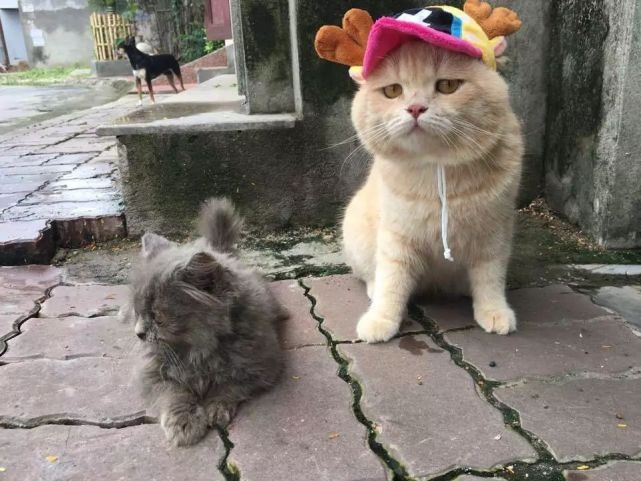cat: (340, 43, 526, 346), (119, 199, 291, 448)
